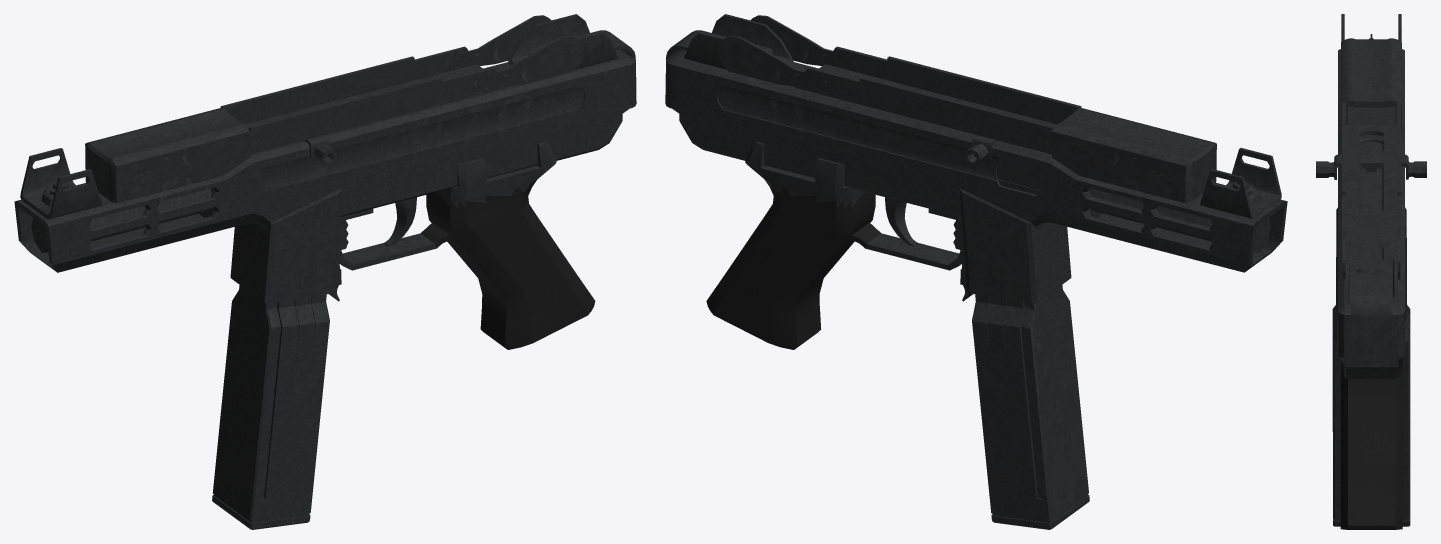
The model's file is spectre.glb.
3 views of the same model, side by side, from view 1: azimuth 30°, elevation 25°; view 2: azimuth 150°, elevation 25°; view 3: azimuth 270°, elevation 25° (orthographic).
Visible parts, largest first — view 1: spectre; view 2: spectre; view 3: spectre.
Part boxes in pixels (x1,y1,x2,y2): spectre: [14, 14, 636, 529]; spectre: [665, 14, 1287, 529]; spectre: [1316, 14, 1426, 529].
Size of the model in its own units: 0.35 by 0.2355 by 0.0573.
Materials: 2 (2 with a texture image).
